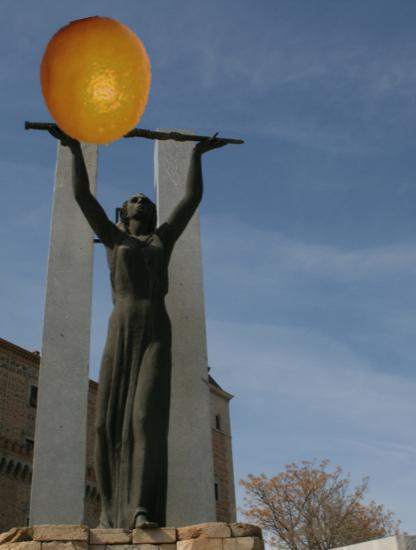Lemon: (31, 17, 162, 148)
